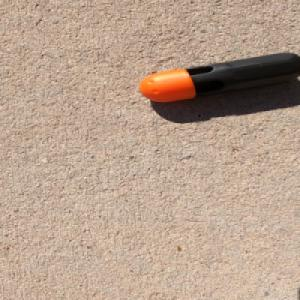PlasticPart: (137, 52, 300, 103)
